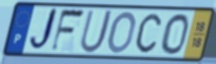C: (134, 12, 163, 54)
F: (49, 8, 87, 54)
J: (27, 7, 60, 54)
O: (106, 10, 138, 56), (160, 12, 190, 56)
U: (78, 9, 115, 55)
